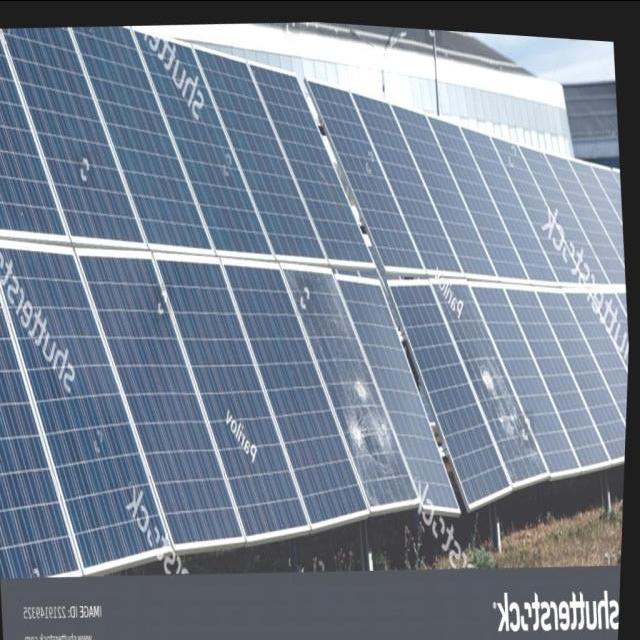cracked: (283, 269, 407, 514), (436, 284, 539, 494)
